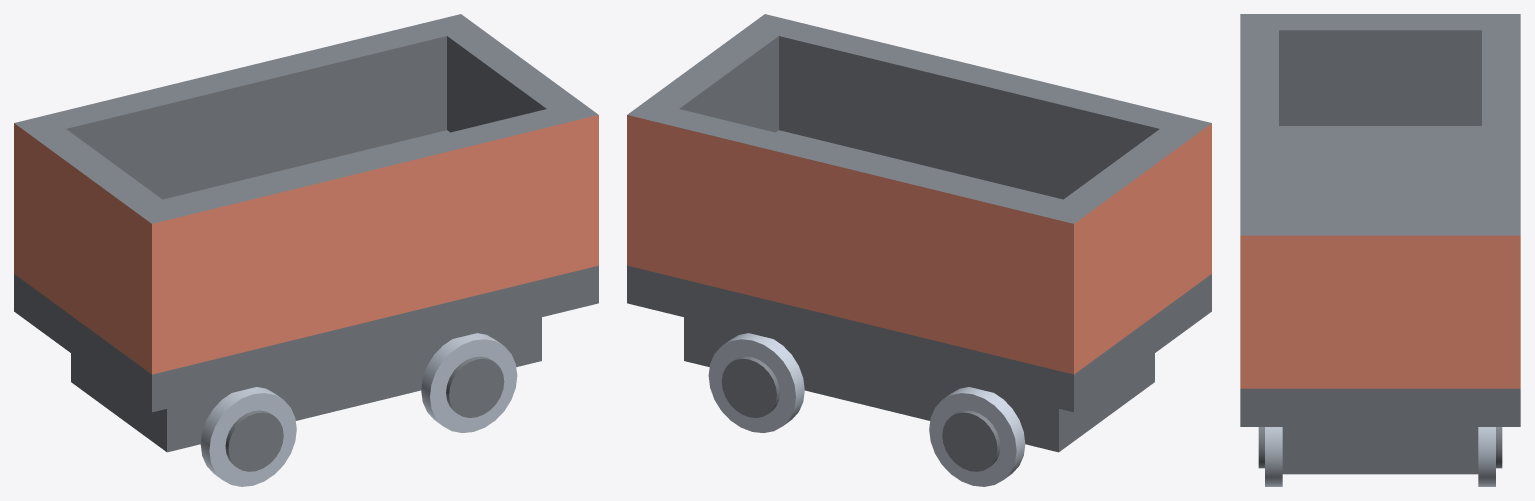
File: trainTender.glb
The picture shows the model from 3 angles, left to right: view 1: azimuth 30°, elevation 25°; view 2: azimuth 150°, elevation 25°; view 3: azimuth 270°, elevation 25°; orthographic projection.
Parts seen in each view (by area): view 1: trainTender(Clone), wheel (×2); view 2: trainTender(Clone), wheel (×2); view 3: trainTender(Clone), wheel (×2).
Boxes of the visible parts, x1,y1,x2,y2 form: trainTender(Clone): (14,14,598,452); wheel (×2): (200,333,517,486); trainTender(Clone): (627,14,1211,452); wheel (×2): (708,333,1025,486); trainTender(Clone): (1240,14,1520,474); wheel (×2): (1258,427,1502,486).
Size of the model in its own units: 0.2484 by 0.1584 by 0.1327.
